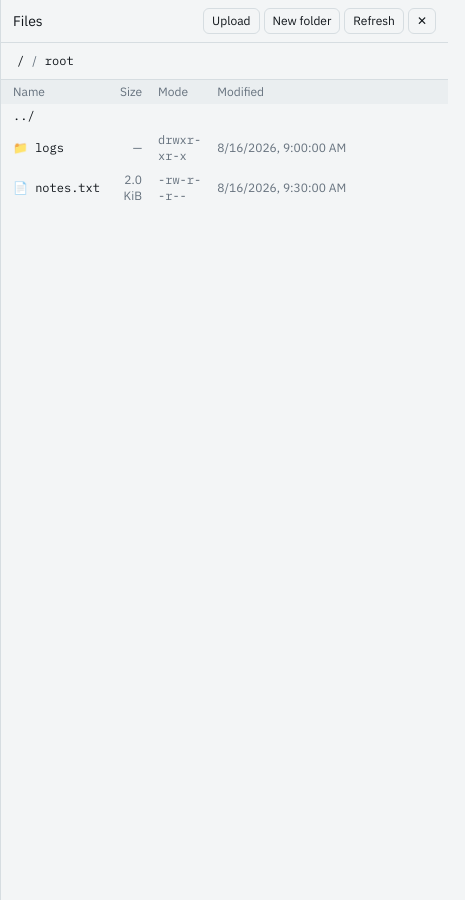
Test: FileBrowser › navigates into a directory
Click the button "📁 logs" at (38, 148), box [13, 140, 64, 156]
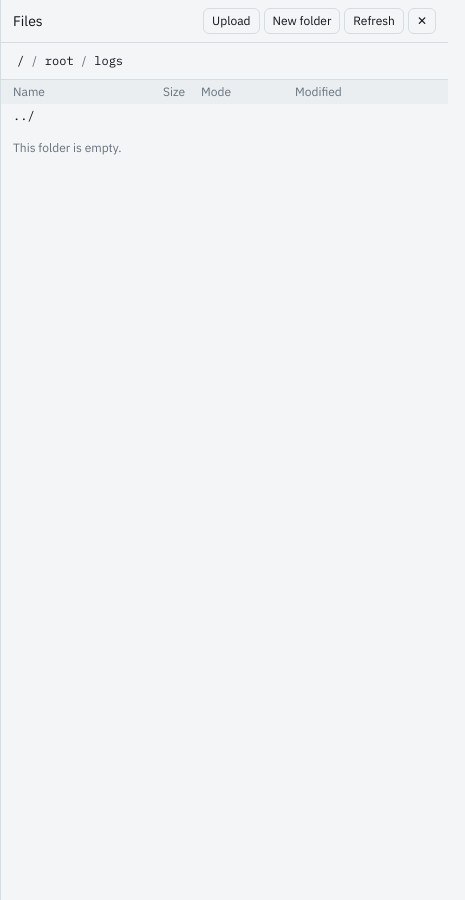
Result: the text "This folder is empty." is shown at [1, 128, 448, 168]
